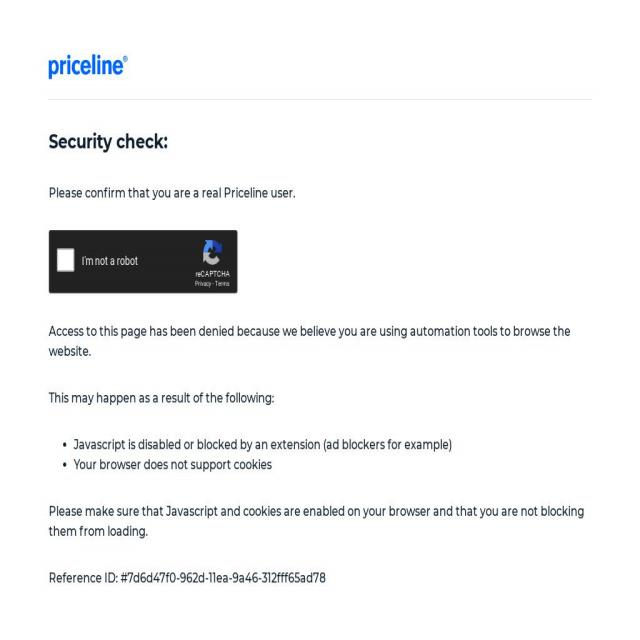button: (44, 39, 134, 93)
field: (57, 248, 75, 270)
